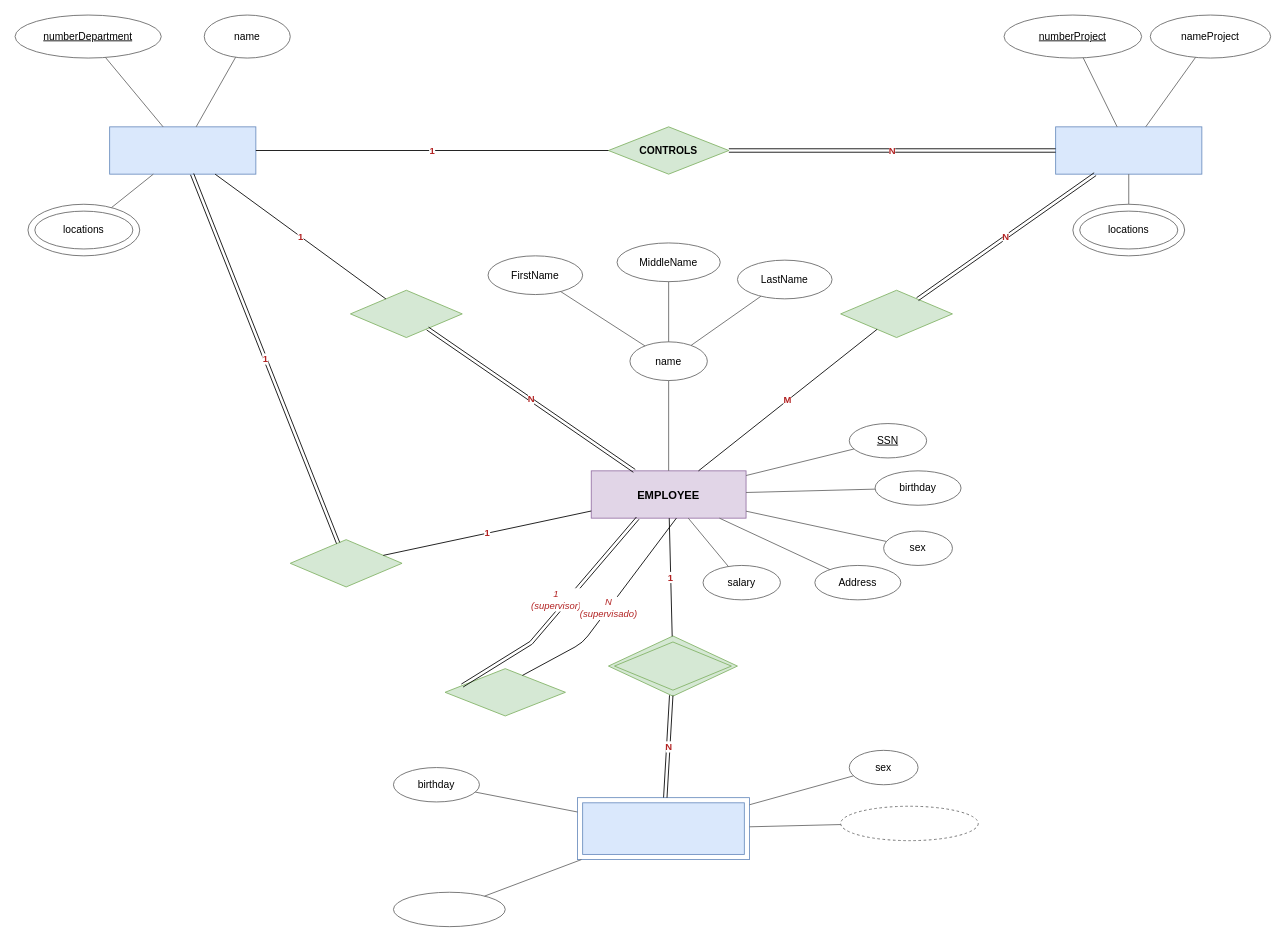
Some shapes in this 1286 by 942 pixel diagram are drawn without their labels. Here are the shapes that lost their labels. From the top down, the box of each, then its label:
(109, 126, 256, 174): DEPARTMENT
(1055, 126, 1202, 174): PROJECT
(350, 289, 462, 338): WORKS_FOR
(840, 289, 952, 338): WORKS_ON
(289, 539, 402, 587): MANAGES
(614, 641, 731, 690): DEPENDS_OF
(444, 668, 565, 716): SUPERVISION
(582, 802, 744, 854): DEPENDENT
(840, 805, 978, 841): name (clave parcial)
(393, 891, 505, 927): Relationship
